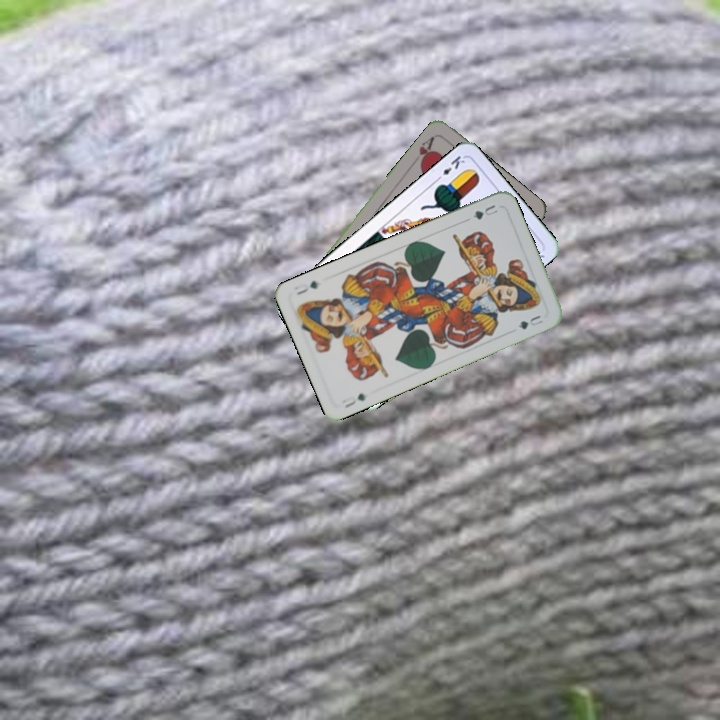EK: (432, 152, 467, 184)
GU: (468, 200, 500, 222), (341, 389, 368, 411)
HA: (409, 132, 437, 169)
